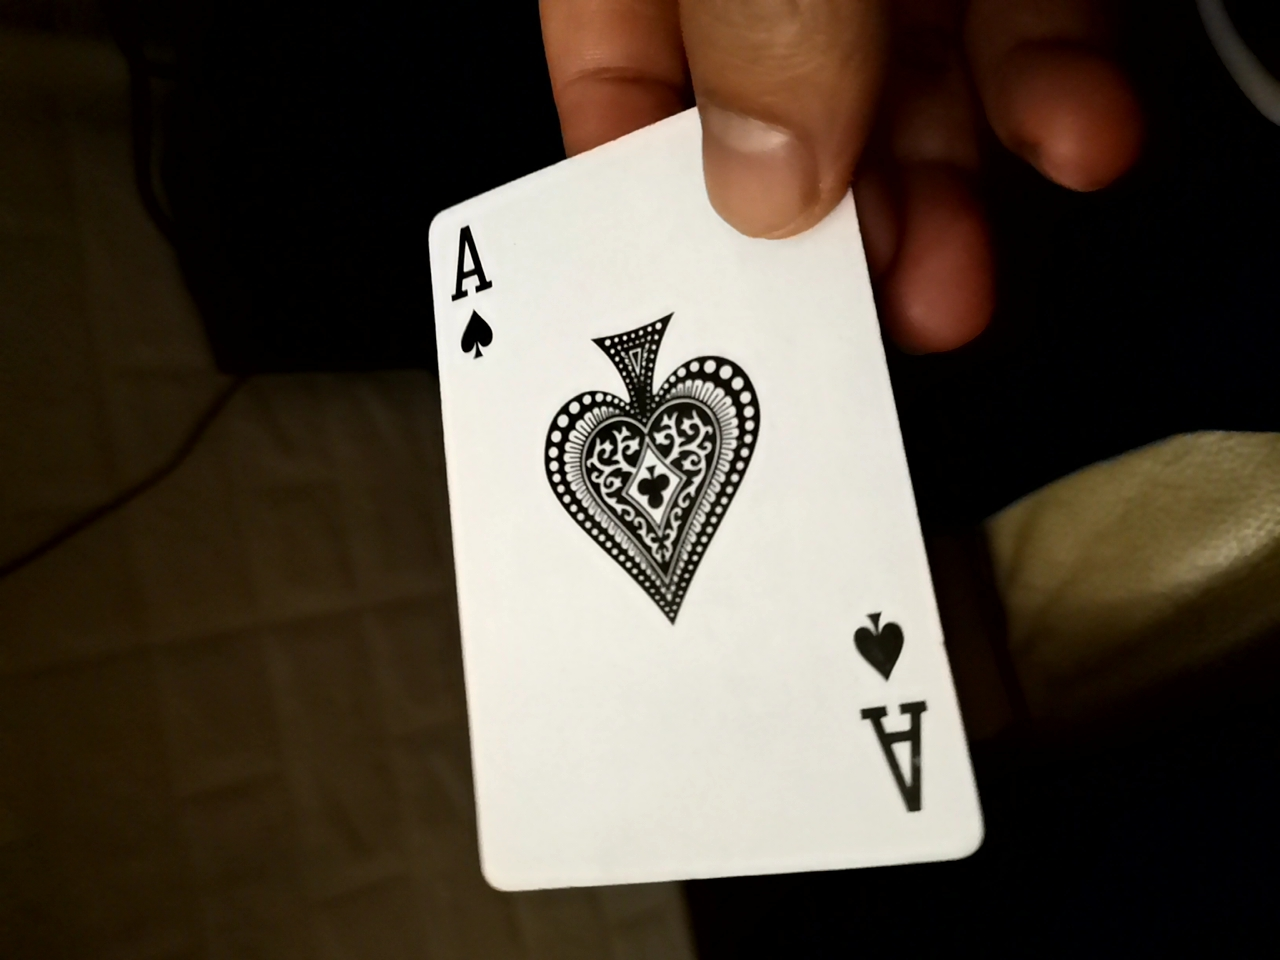ht a: (390, 80, 958, 904)
